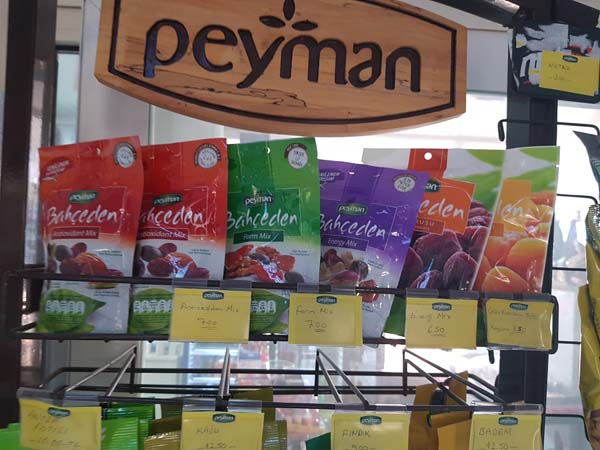bahcedenantioxidan: (34, 143, 133, 336), (139, 136, 228, 338)
bahcedenenergymix: (316, 141, 418, 345)
bahcedengunkurusu: (363, 148, 506, 298)
bahcedenkurukayisi: (492, 146, 554, 304)
